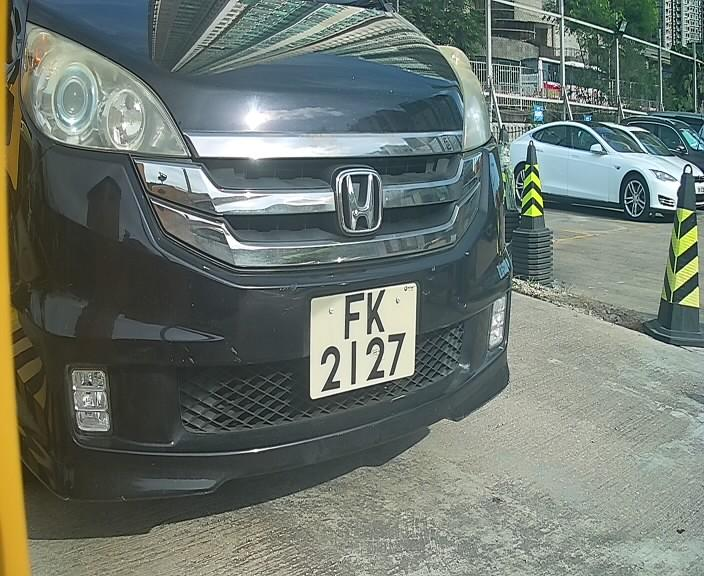License Plate: (305, 276, 422, 407)
